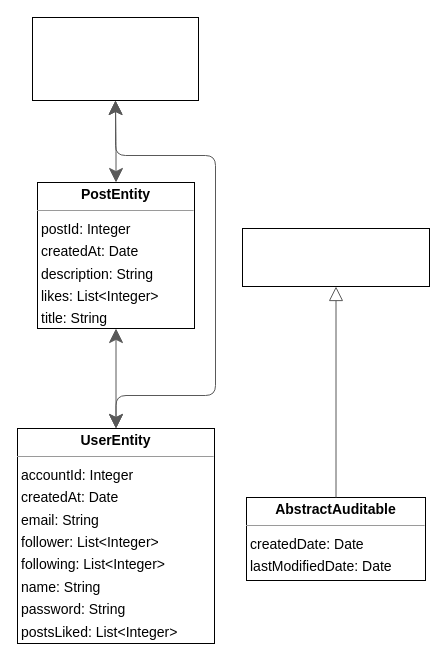
Some shapes in this 447 by 661 pixel diagram are drawn without their labels. Each missing label, with the centre of its shape:
"AbstractPersistable id: PK" goes at pixel 336 257.
"CommentEntity commentId: Integer commentMsg: String" goes at pixel 115 58.
